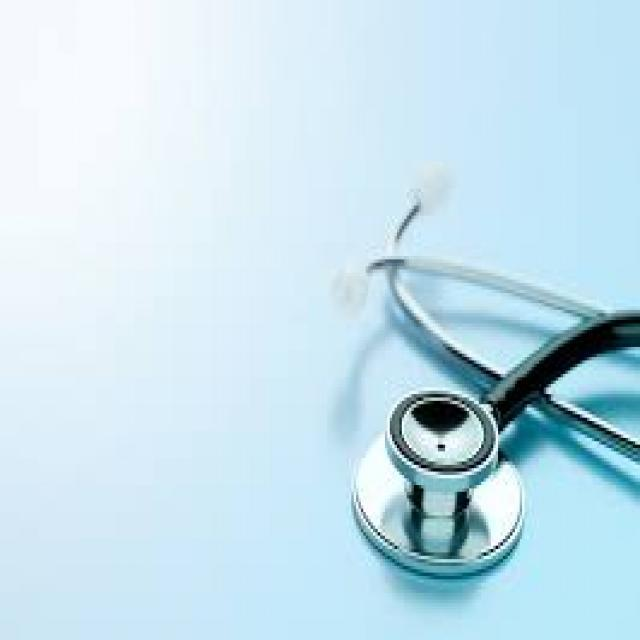stethoscope: (341, 167, 613, 637)
